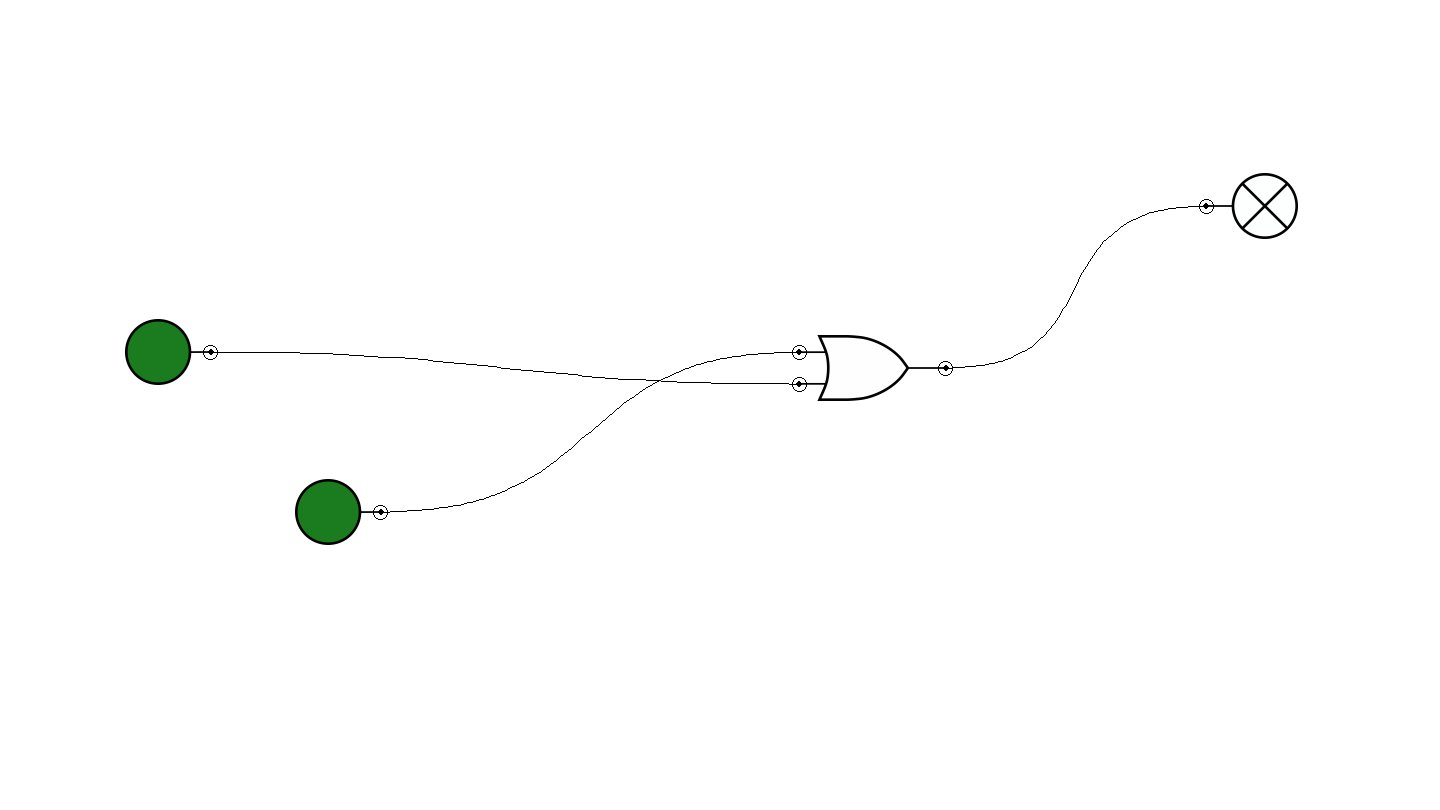bulb: (1199, 173, 1298, 239)
or: (792, 335, 953, 401)
switch_True: (295, 479, 388, 545), (125, 319, 218, 385)
